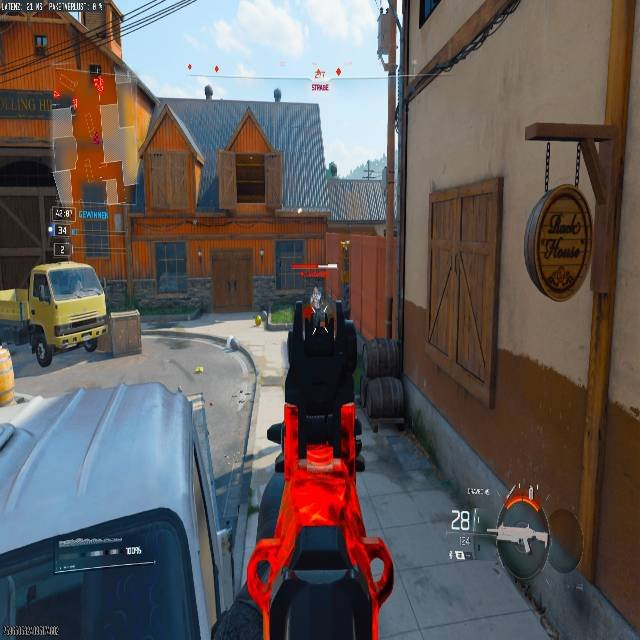player: (299, 281, 333, 334), (254, 279, 275, 329)
